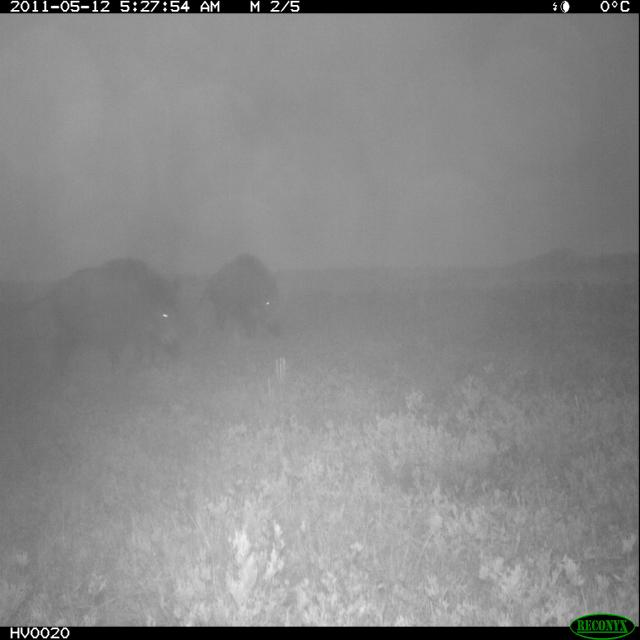boar: (2, 252, 196, 391), (195, 248, 288, 368)
